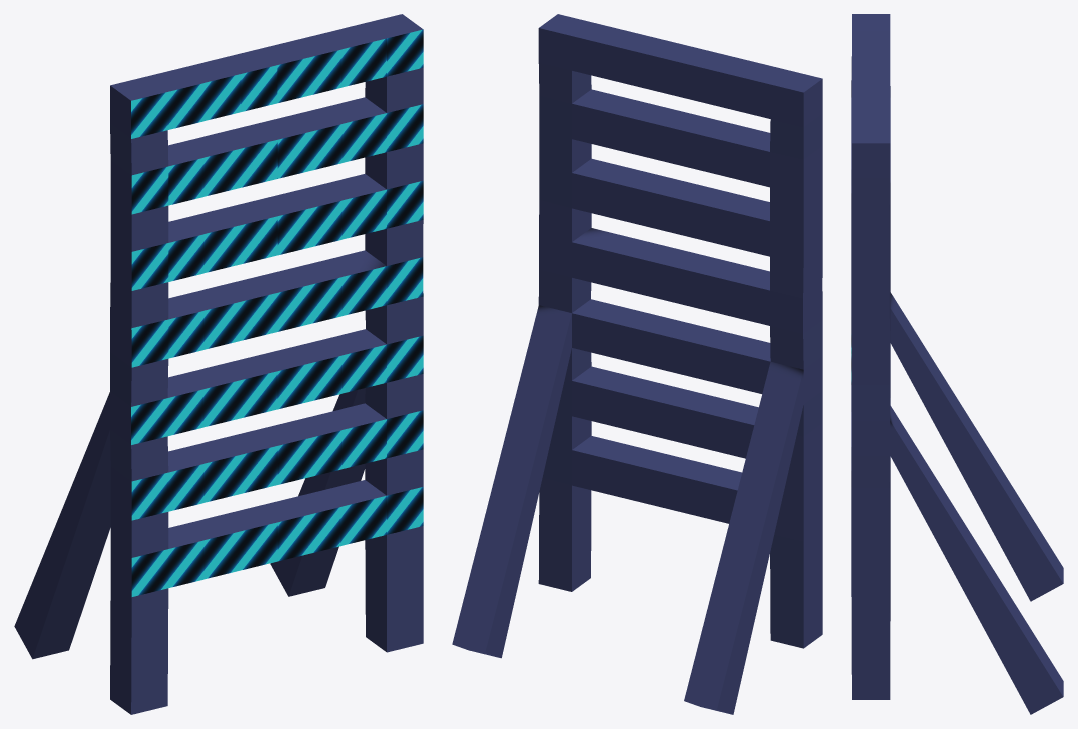
The model's file is obstruction_3.fbx.
3 views of the same model, side by side, from view 1: azimuth 30°, elevation 25°; view 2: azimuth 150°, elevation 25°; view 3: azimuth 270°, elevation 25° (orthographic). The views are drawn at different scales.
Visible parts, largest first — view 1: 3; view 2: 3; view 3: 3.
Part boxes in pixels (x1,y1,x2,y2): 3: (14,14,423,714); 3: (452,14,822,714); 3: (851,14,1063,714).
Bounding box in the file's own units: 160 × 330 × 111.
